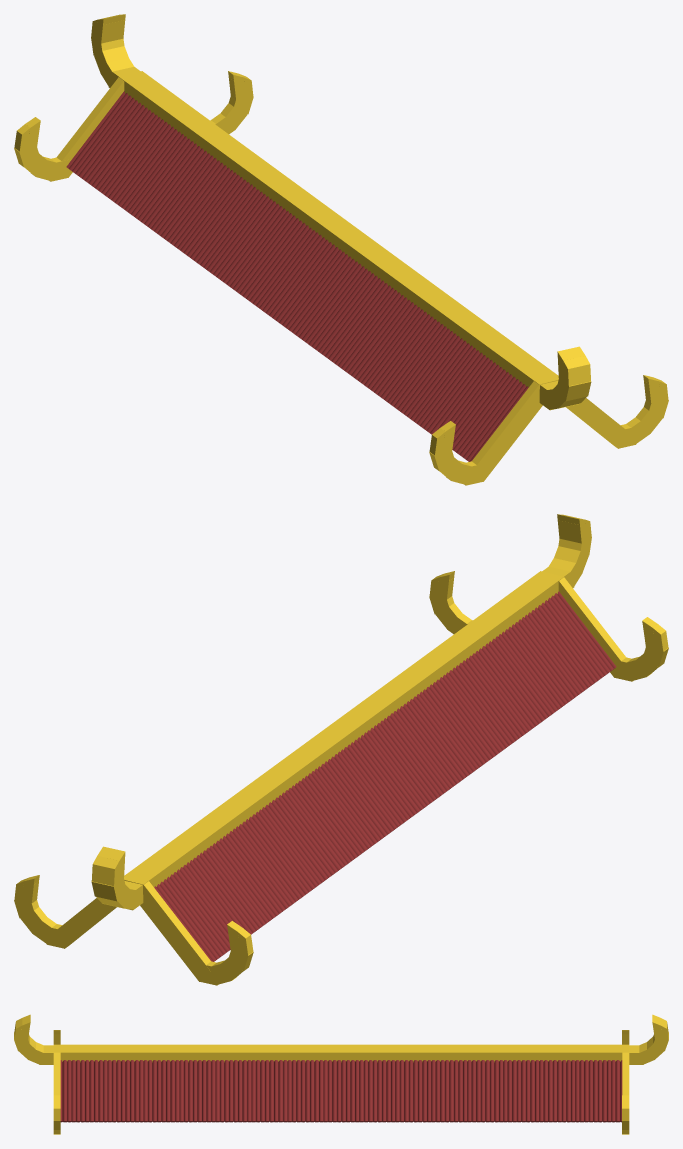
Rendered from China Roof.gltf.
3 renders of one model, top to bottom at view 1: azimuth 30°, elevation 25°; view 2: azimuth 150°, elevation 25°; view 3: azimuth 270°, elevation 25°, orthographic. The views are drawn at different scales.
Visible parts, largest first — view 1: Part (×4); view 2: Part (×4); view 3: Part (×5).
Part boxes in pixels (x1=…): Part (×4): x1=56, y1=71, x2=630, y2=481; Part (×4): x1=52, y1=571, x2=626, y2=981; Part (×5): x1=39, y1=1044, x2=643, y2=1095.
Bounding box in the file's own units: 41.66 × 21.87 × 147.
